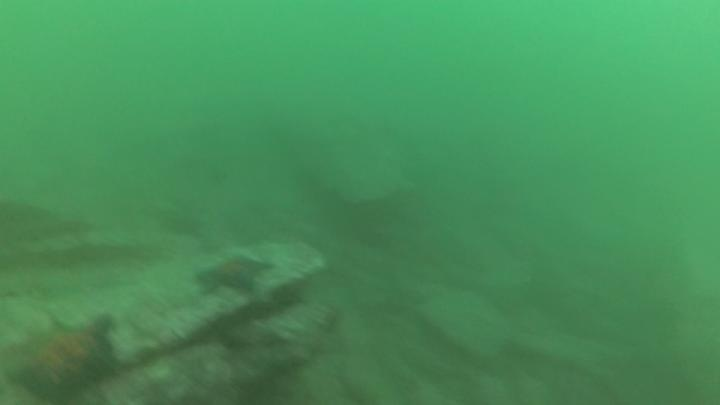starfish: (2, 311, 123, 404), (192, 250, 276, 300)
